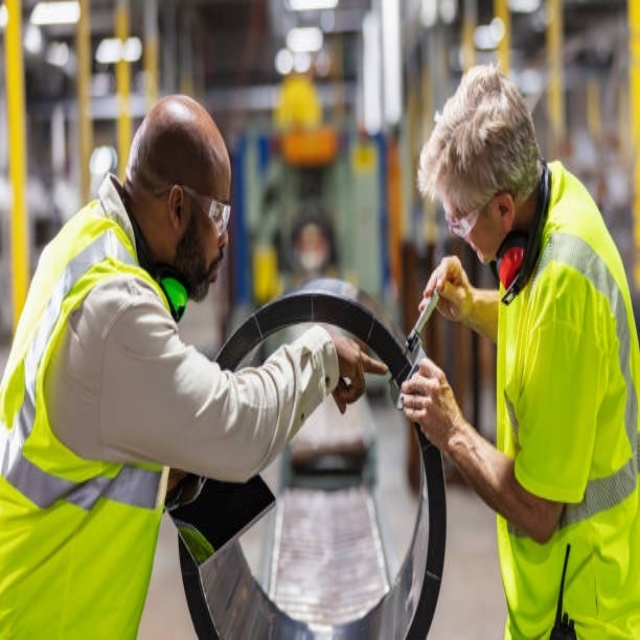Gafas: (173, 182, 233, 232), (441, 197, 483, 245)
Sin_guantes: (398, 357, 461, 451), (422, 252, 490, 339), (325, 333, 389, 412)
Sin_mascara: (187, 251, 228, 300)
